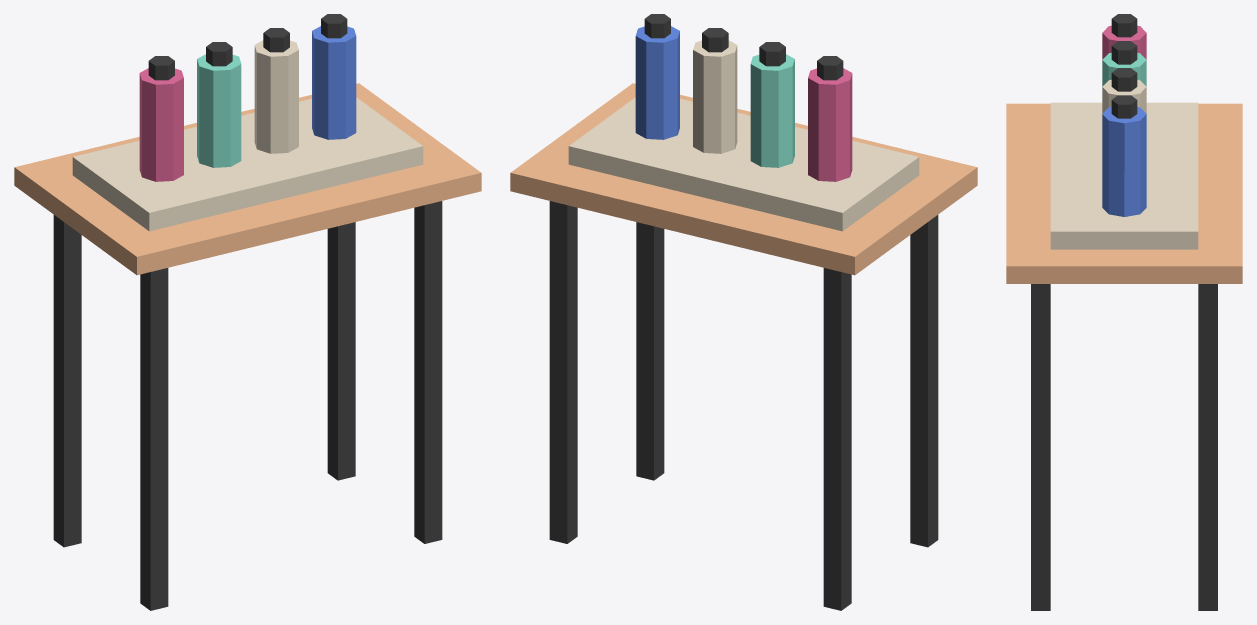
3 renders of one model, left to right at view 1: azimuth 30°, elevation 25°; view 2: azimuth 150°, elevation 25°; view 3: azimuth 270°, elevation 25°, orthographic. The views are drawn at different scales.
Visible parts, largest first — view 1: Display tabletop, Vanity tray, Display support leg.002, Display support leg, Display support leg.001, Display support leg.003, Bottle, Bottle.002, Bottle.003, Bottle.001; view 2: Display tabletop, Vanity tray, Display support leg.003, Display support leg.001, Display support leg, Display support leg.002, Bottle, Bottle.002, Bottle.003, Bottle.001; view 3: Display tabletop, Vanity tray, Display support leg.002, Display support leg.003, Bottle.003, Bottle.002, Bottle, Bottle.001, Bottle cap.002, Bottle cap.003, Bottle cap, Bottle cap.001.
Boxes of the visible parts, x1,y1,x2,y2 form: Display tabletop: [14, 83, 481, 275]; Vanity tray: [72, 97, 423, 231]; Display support leg.002: [414, 201, 442, 543]; Display support leg: [140, 268, 168, 610]; Display support leg.001: [53, 215, 81, 547]; Display support leg.003: [327, 222, 355, 480]; Bottle: [139, 68, 183, 181]; Bottle.002: [254, 40, 298, 153]; Bottle.003: [312, 26, 356, 139]; Bottle.001: [197, 54, 241, 167]; Display tabletop: [510, 83, 977, 275]; Vanity tray: [568, 97, 919, 231]; Display support leg.003: [549, 201, 577, 543]; Display support leg.001: [823, 268, 851, 610]; Display support leg: [910, 215, 938, 547]; Display support leg.002: [636, 222, 664, 480]; Bottle: [808, 68, 852, 181]; Bottle.002: [693, 40, 737, 153]; Bottle.003: [635, 26, 679, 139]; Bottle.001: [750, 54, 794, 167]; Display tabletop: [1006, 103, 1242, 283]; Vanity tray: [1050, 102, 1198, 249]; Display support leg.002: [1031, 284, 1050, 610]; Display support leg.003: [1198, 284, 1217, 610]; Bottle.003: [1102, 107, 1146, 216]; Bottle.002: [1102, 80, 1146, 113]; Bottle: [1102, 25, 1146, 59]; Bottle.001: [1102, 52, 1146, 86]; Bottle cap.002: [1111, 68, 1137, 91]; Bottle cap.003: [1111, 95, 1137, 118]; Bottle cap: [1111, 14, 1137, 37]; Bottle cap.001: [1111, 41, 1137, 64].
Size of the model in its own units: 78 by 108 by 48.
